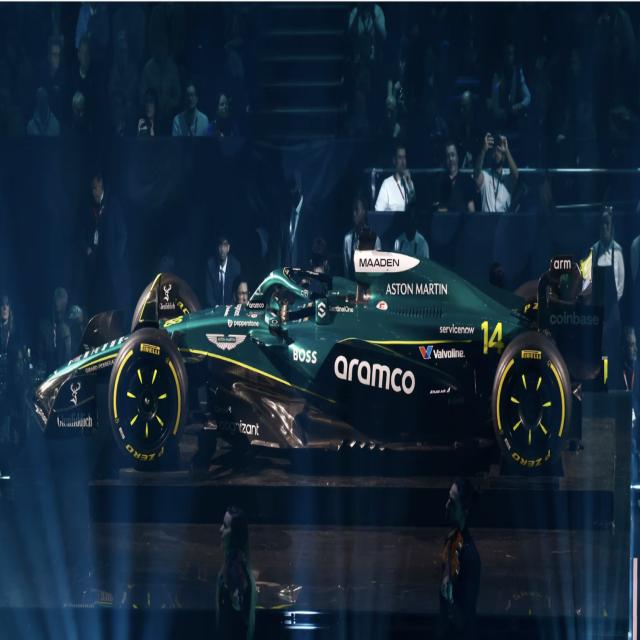Aston Martin: (31, 224, 603, 475)
